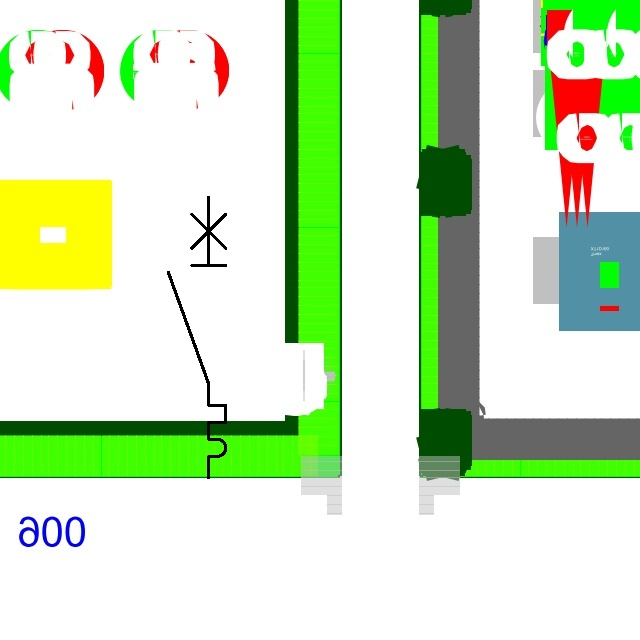interruptor_termomagnetico: (161, 190, 233, 485)
